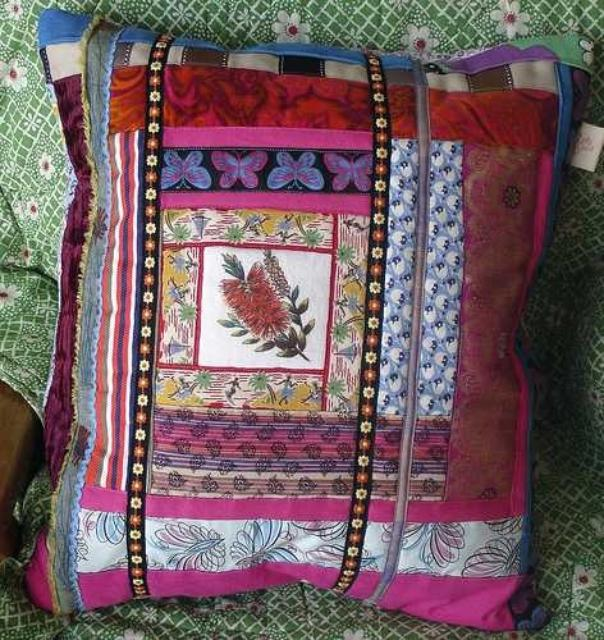pillow: (24, 17, 578, 628)
